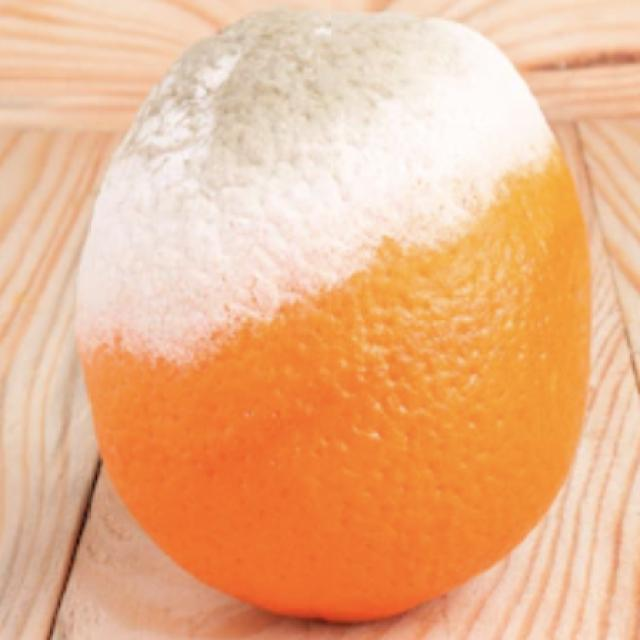sedikit-busuk: (76, 10, 590, 620)
